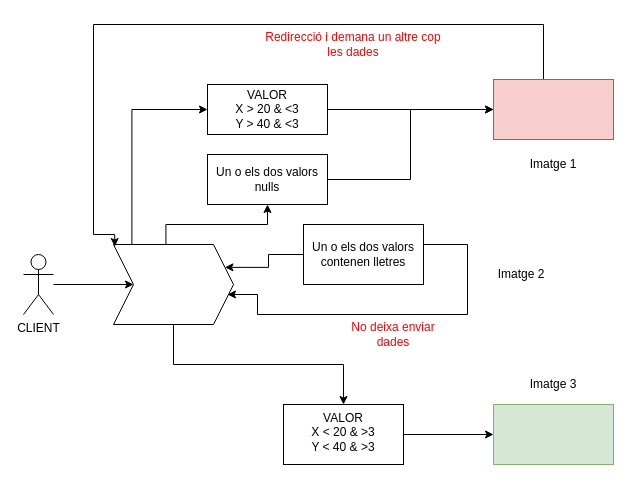
The diagram is 631 pixels wide and 482 high, and some of its shapes have lost their labels. The centre of each missing label's shape, as x and y in pixels:
"MOSTRA LA TAULA CORRECTAMENT" goes at pixel 553 434.
"RETORANA UN MISSATGE D'ERROR" goes at pixel 553 109.
"USUARI INTRODUEIX VALOR" goes at pixel 173 284.
